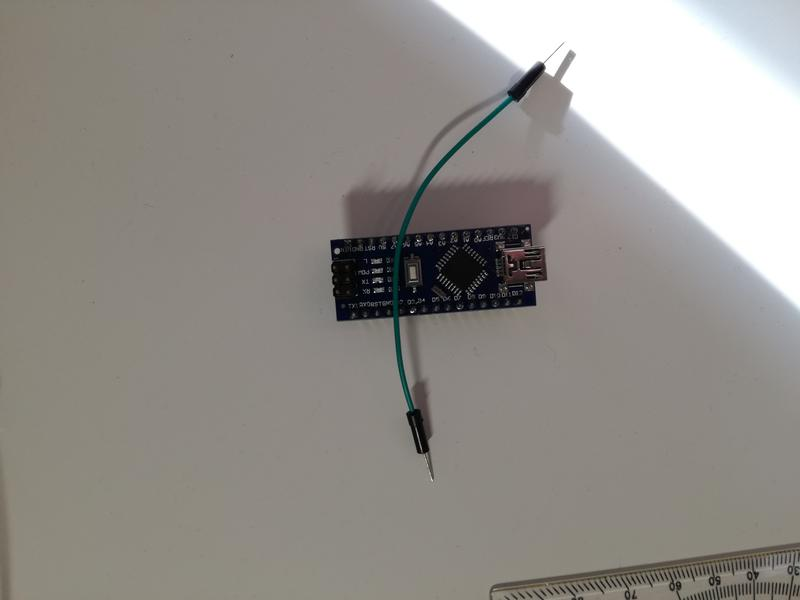Arduino_Nano: (320, 221, 551, 328)
